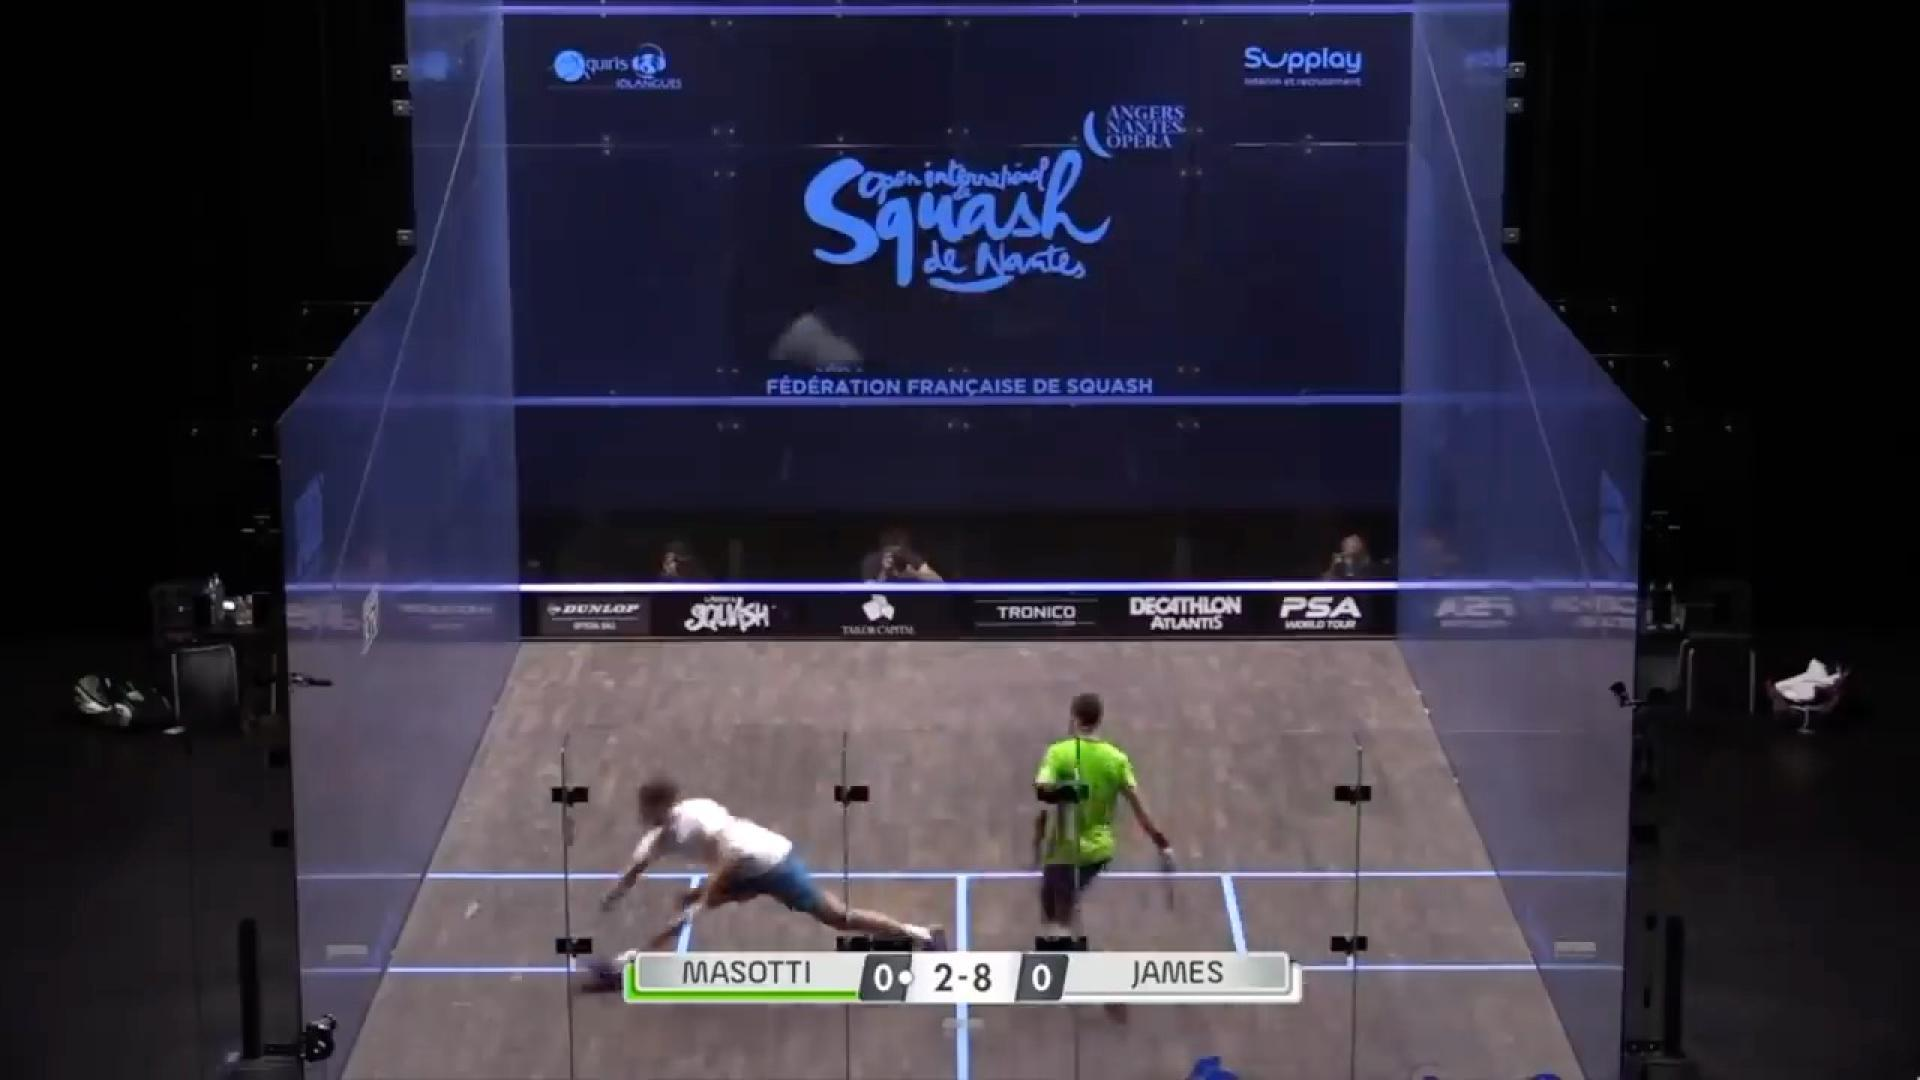Squash-Ball: (458, 895, 485, 924)
